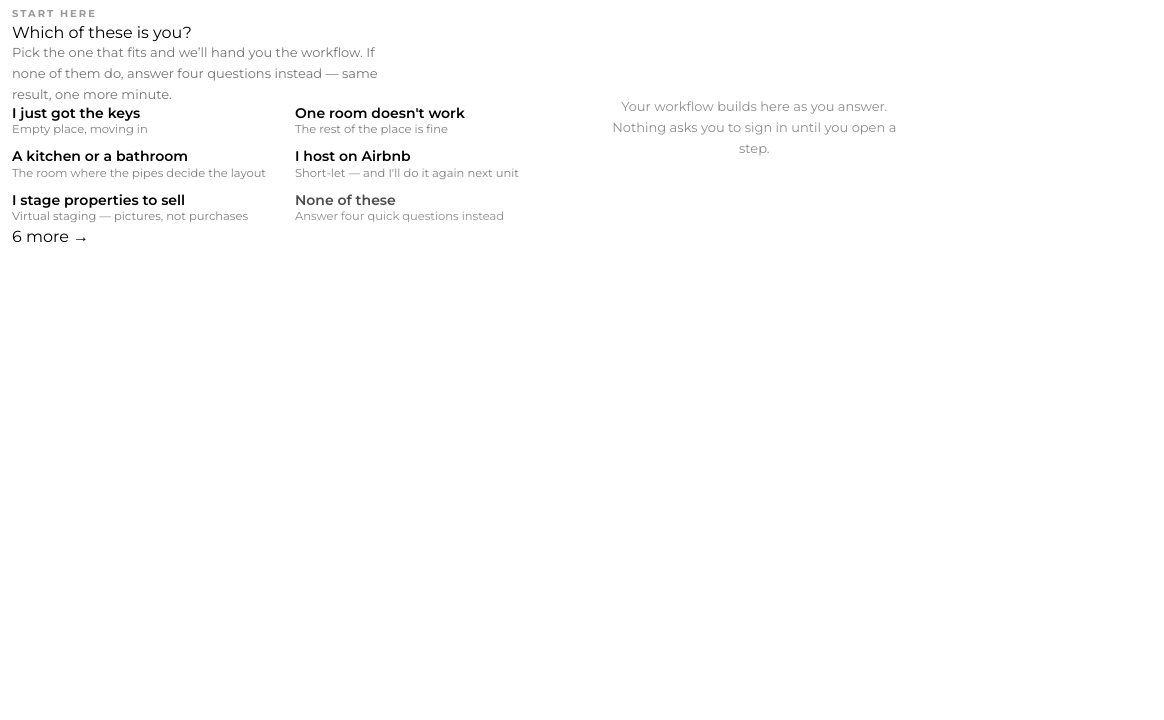
Test: picking an identity › holds some back rather than trading nineteen choices for eleven
The image size is (1164, 720).
Expected: the text "Just dreaming for now" is not shown
Step 1. Click the button "6 more →" → x=50, y=237, box [12,225,89,249]
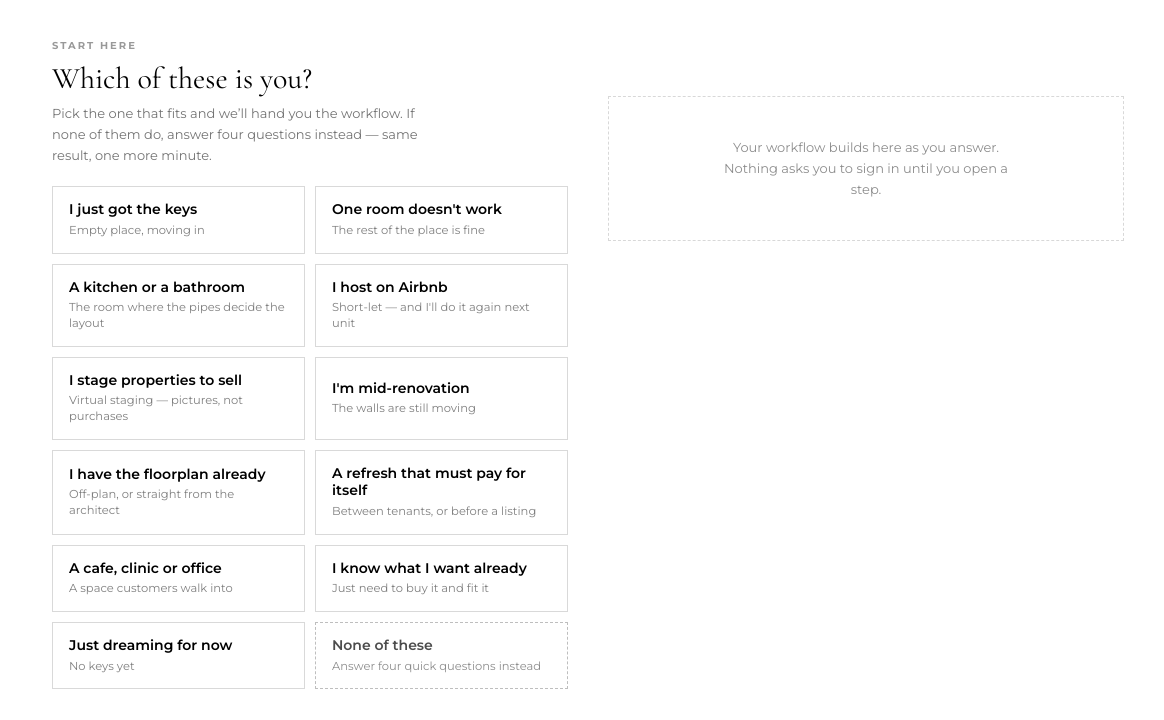
Now the text "Just dreaming for now" is shown, box [69,636,232,654]
